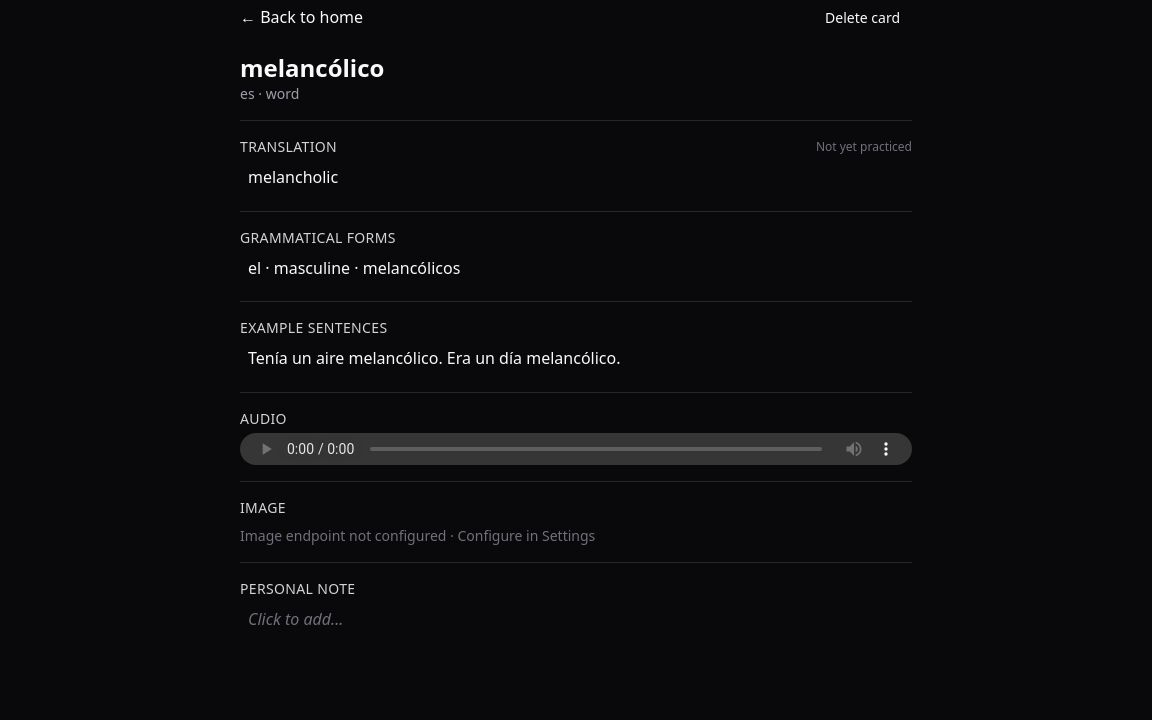
CardDetail › shows delete confirmation dialog on Delete button click (AC4)
Check: the heading "melancólico" is shown, box x1=240 y1=51 x2=384 y2=84
Click the button "Delete card". click: (863, 18)
box: x1=813 y1=0 x2=912 y2=36
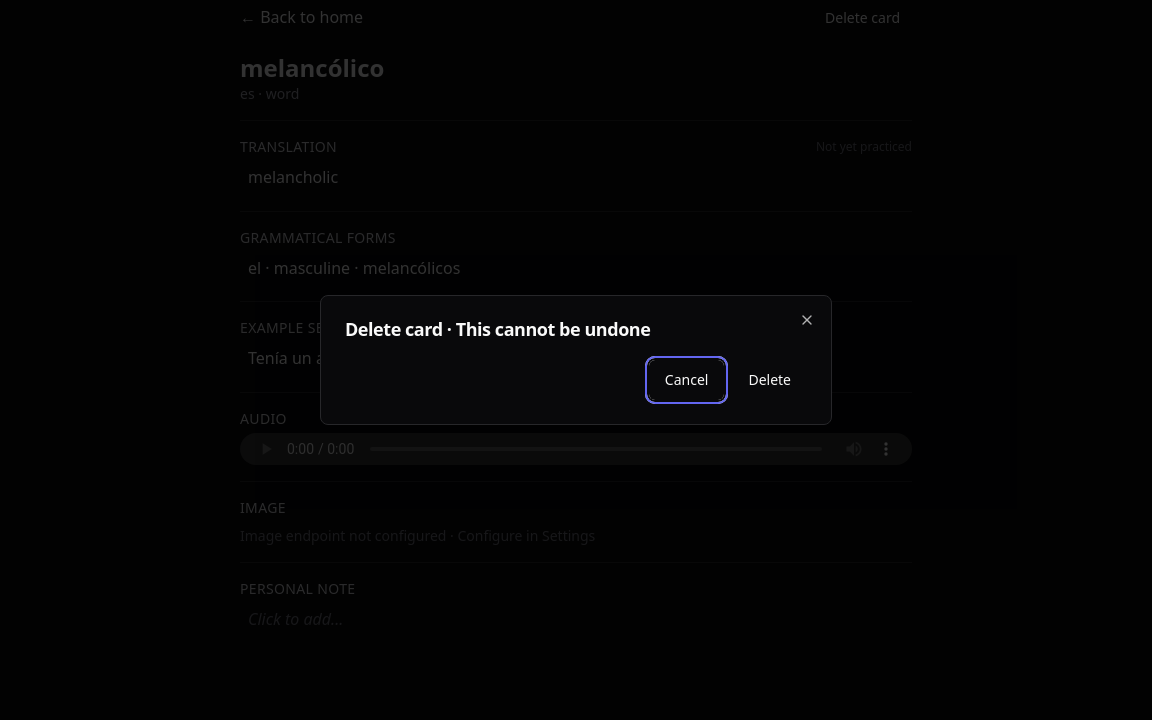
Check: the heading "Delete card · This cannot be undone" is shown, box x1=345 y1=317 x2=650 y2=341
